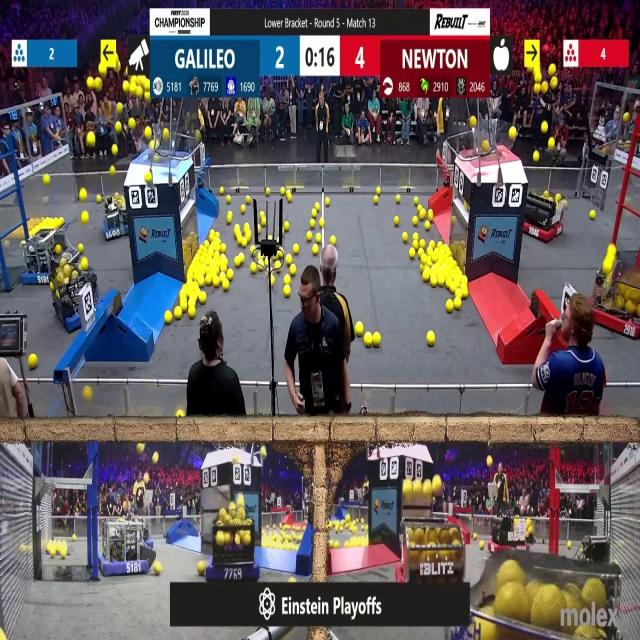ball_airborne: (431, 477, 441, 494), (413, 481, 423, 498), (422, 481, 432, 496), (405, 480, 413, 498), (602, 261, 612, 275), (88, 132, 96, 146), (100, 64, 108, 78), (540, 120, 547, 134), (550, 64, 557, 78), (144, 128, 152, 140), (510, 129, 518, 141), (607, 245, 615, 257), (142, 78, 150, 89), (111, 144, 118, 156), (122, 80, 129, 92), (79, 188, 86, 200), (540, 83, 547, 95), (95, 77, 102, 89), (81, 260, 88, 272), (484, 141, 491, 152), (81, 212, 88, 223), (533, 85, 540, 96), (115, 103, 122, 114), (131, 84, 138, 95), (115, 120, 121, 132), (552, 77, 558, 89), (89, 76, 95, 88), (547, 138, 553, 150), (129, 118, 136, 128), (145, 172, 152, 182), (43, 175, 50, 185), (164, 129, 170, 140), (152, 453, 158, 464), (487, 456, 493, 467), (534, 71, 540, 82), (109, 167, 116, 176), (469, 116, 475, 126), (137, 88, 143, 98), (148, 140, 154, 150), (624, 112, 630, 122), (533, 151, 539, 161), (138, 444, 144, 454), (194, 132, 200, 142), (144, 472, 149, 483), (144, 92, 149, 101), (152, 153, 158, 160)
ball_ground: (82, 386, 91, 401), (427, 332, 435, 348), (374, 333, 382, 348), (30, 354, 38, 368), (363, 334, 371, 348), (355, 322, 363, 335), (199, 562, 206, 576), (153, 562, 161, 574), (221, 280, 229, 292), (436, 276, 444, 288), (410, 248, 418, 259), (174, 308, 182, 319), (180, 295, 188, 306), (429, 276, 437, 287), (199, 278, 207, 289), (284, 285, 291, 297), (200, 291, 207, 303), (447, 301, 454, 313), (422, 270, 429, 282), (166, 312, 173, 324), (187, 308, 195, 318), (460, 288, 468, 298), (289, 266, 296, 277), (454, 300, 461, 311), (207, 276, 214, 287), (220, 262, 227, 273), (185, 272, 192, 283), (236, 255, 242, 267), (292, 242, 298, 254), (420, 210, 426, 222), (421, 255, 429, 264), (226, 212, 232, 223), (285, 254, 292, 263), (245, 233, 252, 242), (402, 234, 408, 244), (251, 265, 257, 275), (312, 245, 318, 255), (226, 270, 232, 280), (424, 220, 430, 230), (590, 210, 596, 220), (244, 222, 250, 232), (236, 222, 242, 232), (310, 218, 316, 228), (219, 243, 225, 253), (209, 231, 215, 241), (276, 250, 283, 258), (177, 411, 184, 419), (413, 198, 420, 206), (427, 210, 432, 221), (284, 221, 290, 230), (330, 236, 336, 245), (420, 239, 426, 248), (284, 276, 290, 285), (271, 277, 277, 286), (61, 551, 67, 560), (286, 192, 292, 201), (316, 234, 321, 244), (276, 263, 282, 271), (413, 216, 419, 224), (372, 198, 378, 206), (418, 248, 424, 256), (243, 197, 249, 205), (413, 234, 419, 242), (260, 217, 266, 225), (280, 187, 286, 195), (394, 216, 399, 225), (308, 233, 313, 242), (241, 205, 246, 214), (319, 218, 324, 227), (242, 238, 247, 247), (78, 244, 83, 253), (289, 576, 295, 583), (429, 241, 435, 248), (327, 200, 332, 208), (312, 210, 317, 218), (567, 540, 572, 548), (97, 194, 102, 202), (315, 202, 320, 210), (0, 629, 4, 639), (427, 247, 432, 255), (225, 195, 230, 202), (259, 211, 264, 218), (421, 265, 426, 272), (452, 216, 457, 223), (396, 194, 400, 202), (220, 186, 224, 194), (481, 540, 485, 548), (257, 224, 261, 232), (266, 256, 270, 264), (269, 236, 274, 242), (377, 187, 381, 194), (267, 188, 271, 195), (250, 247, 254, 254), (72, 535, 76, 541)
goal: (466, 122, 521, 160)
robot_blue: (207, 510, 261, 585), (22, 217, 74, 286), (51, 265, 103, 332), (102, 519, 153, 575), (100, 192, 131, 240)
robot_red: (594, 263, 640, 336), (523, 190, 564, 242), (492, 515, 537, 553)
